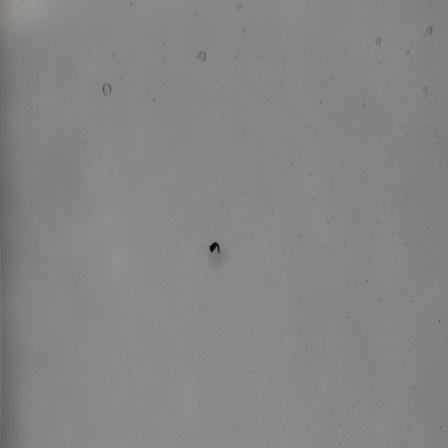Jentik-Nyamuk: (206, 238, 224, 258)
